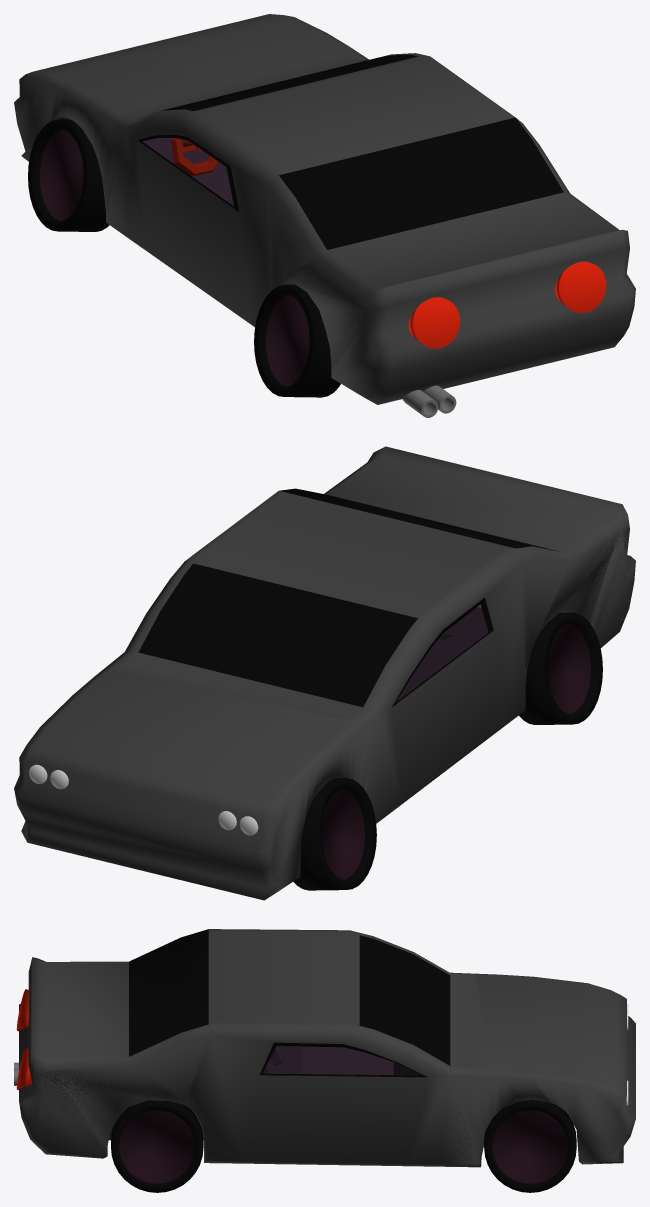
The model's file is hellcatBossCar.fbx.
3 renders of one model, top to bottom at view 1: azimuth 30°, elevation 25°; view 2: azimuth 150°, elevation 25°; view 3: azimuth 270°, elevation 25°, orthographic. The views are drawn at different scales.
Parts seen in each view (by area): view 1: Hellcat, Wheel, BackHeadlights, HellcatGround.001, Exhaust, SteeringWheel; view 2: Hellcat, Wheel, HellcatGround.002, Headlights; view 3: Hellcat, Wheel, HellcatGround, BackHeadlights, HellcatGround.002.
Part boxes in pixels (x1,y1,x2,y2): Hellcat: (14, 14, 635, 404); Wheel: (28, 119, 340, 397); BackHeadlights: (408, 261, 606, 348); HellcatGround.001: (129, 123, 232, 200); Exhaust: (402, 385, 456, 417); SteeringWheel: (170, 138, 218, 176); Hellcat: (14, 446, 635, 900); Wheel: (293, 612, 602, 890); HellcatGround.002: (399, 607, 488, 697); Headlights: (29, 764, 258, 835); Hellcat: (19, 929, 635, 1167); Wheel: (111, 1100, 576, 1192); HellcatGround: (108, 1046, 484, 1140); BackHeadlights: (16, 989, 31, 1090); HellcatGround.002: (263, 1046, 301, 1073).
Bounding box in the file's own units: 46.11 × 27.66 × 96.59.
